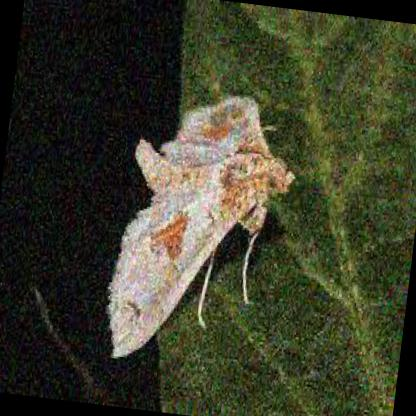leucinodes: (108, 99, 300, 358)
